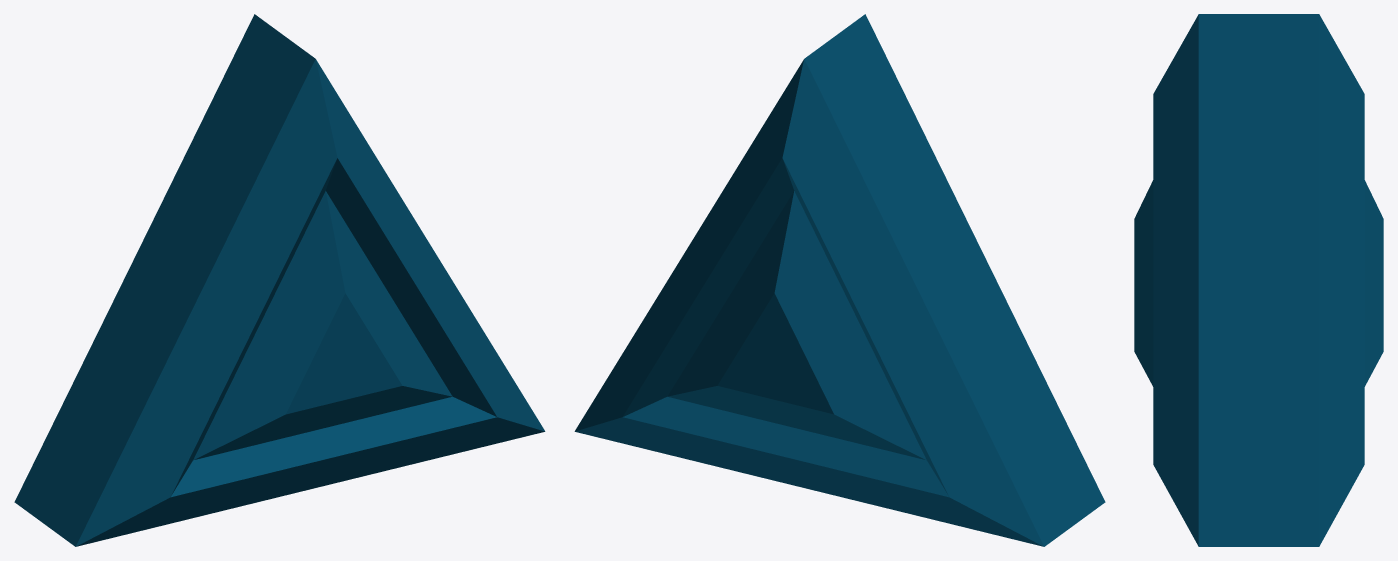
File: tri_new.fbx
3 renders of one model, left to right at view 1: azimuth 30°, elevation 25°; view 2: azimuth 150°, elevation 25°; view 3: azimuth 270°, elevation 25°, orthographic.
Parts seen in each view (by area): view 1: pCube1; view 2: pCube1; view 3: pCube1.
Part boxes in pixels (<box>): pCube1: <box>14,14,545,546</box>; pCube1: <box>574,14,1105,546</box>; pCube1: <box>1134,14,1383,546</box>.
Size of the model in its own units: 1.93 by 1.68 by 0.8997.
